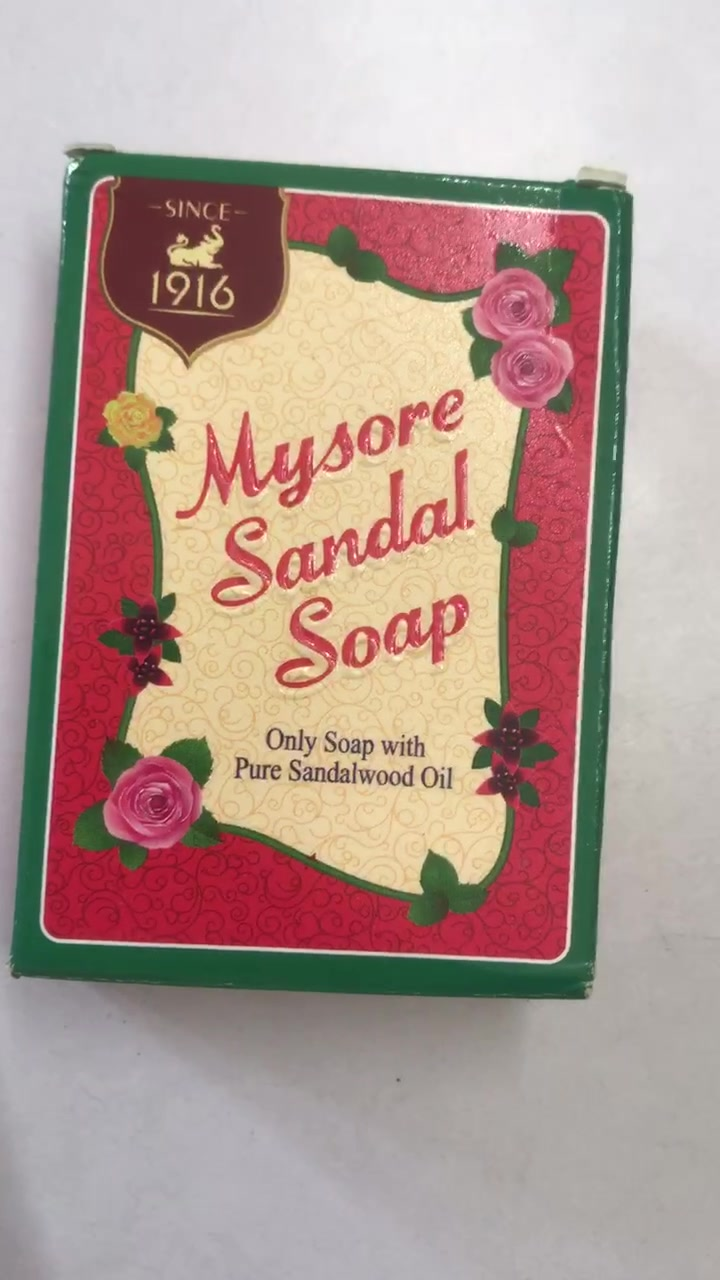mysore sandal soap: (14, 160, 609, 1006)
